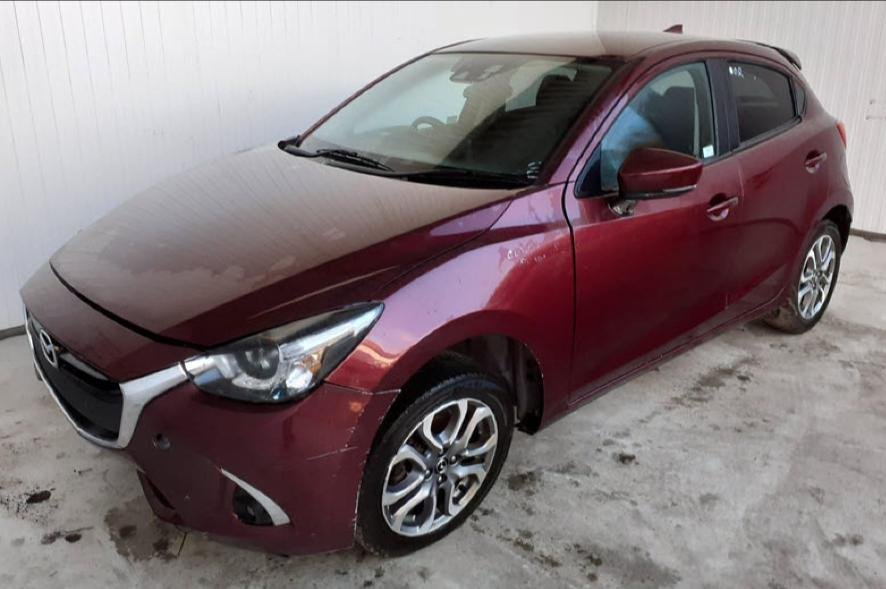Broken part: (48, 258, 220, 358), (89, 442, 204, 541)
Missing part: (34, 363, 176, 520), (152, 432, 168, 449)
Scratch: (347, 447, 370, 535), (301, 446, 359, 460), (377, 390, 400, 424), (373, 411, 388, 426), (355, 404, 369, 418), (329, 471, 341, 482), (308, 530, 320, 538), (359, 407, 366, 416), (347, 426, 355, 433)
